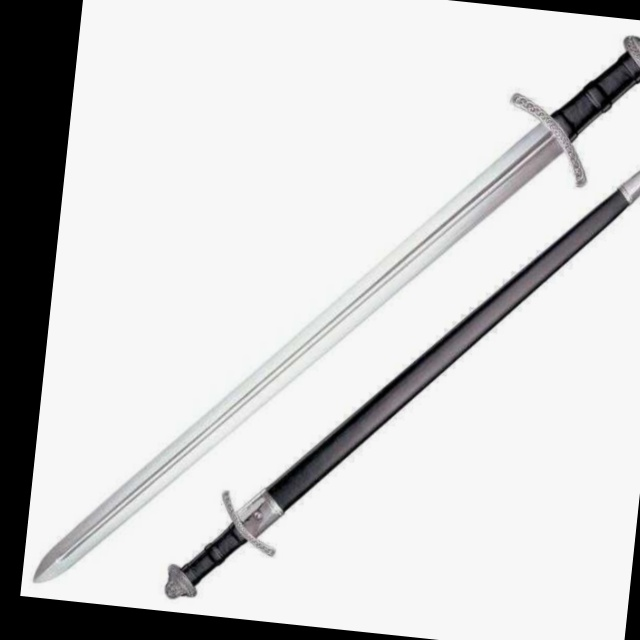Sharp-Object: (38, 0, 640, 640)
